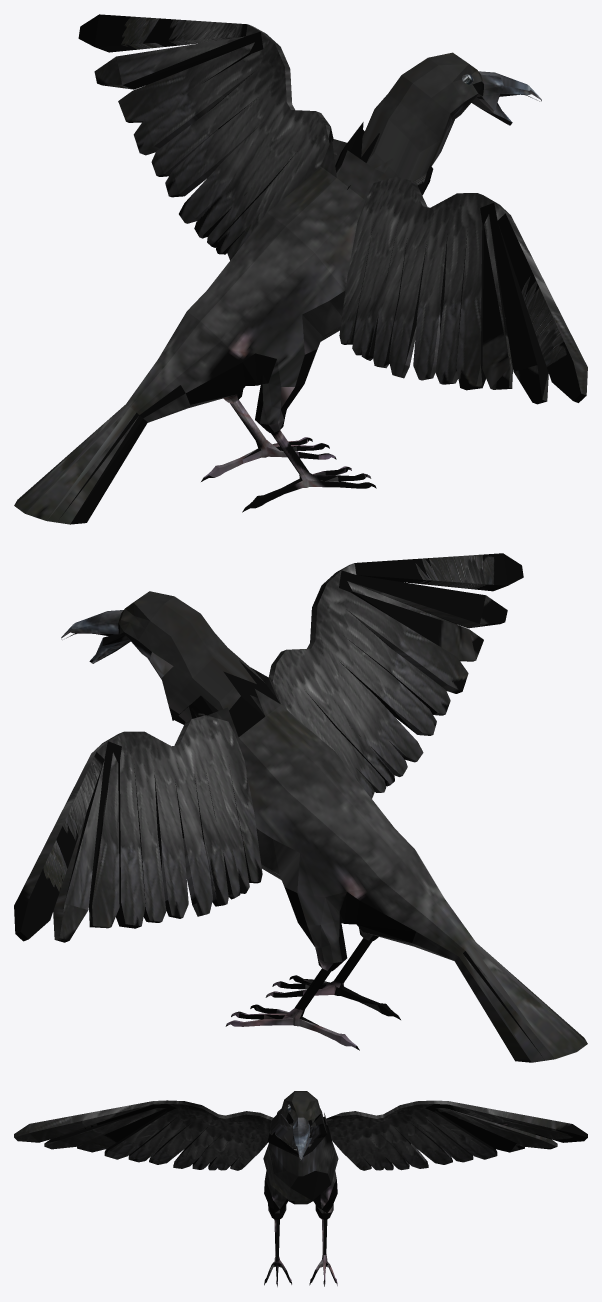
Rendered from CrowBent0_000004.obj.
The picture shows the model from 3 angles, top to bottom: view 1: azimuth 30°, elevation 25°; view 2: azimuth 150°, elevation 25°; view 3: azimuth 270°, elevation 25°; orthographic projection. The views are drawn at different scales.
Parts seen in each view (by area): view 1: Cylinder.009, Cylinder.003, Cylinder.002, Cylinder.001; view 2: Cylinder.009, Cylinder.002, Cylinder.003, Cylinder.001; view 3: Cylinder.002, Cylinder.003, Cylinder.009, Cylinder.001.
Part boxes in pixels (x1,y1,x2,y2): Cylinder.009: [14, 139, 393, 524]; Cylinder.003: [339, 176, 587, 404]; Cylinder.002: [78, 14, 336, 260]; Cylinder.001: [335, 52, 541, 195]; Cylinder.009: [191, 667, 587, 1062]; Cylinder.002: [14, 715, 262, 942]; Cylinder.003: [269, 553, 523, 798]; Cylinder.001: [61, 591, 280, 736]; Cylinder.002: [325, 1100, 587, 1170]; Cylinder.003: [14, 1100, 273, 1170]; Cylinder.009: [263, 1109, 338, 1286]; Cylinder.001: [267, 1091, 327, 1160].
Size of the model in its own units: 5.61 by 3.95 by 9.33.
Materials: 4 (4 with a texture image).
